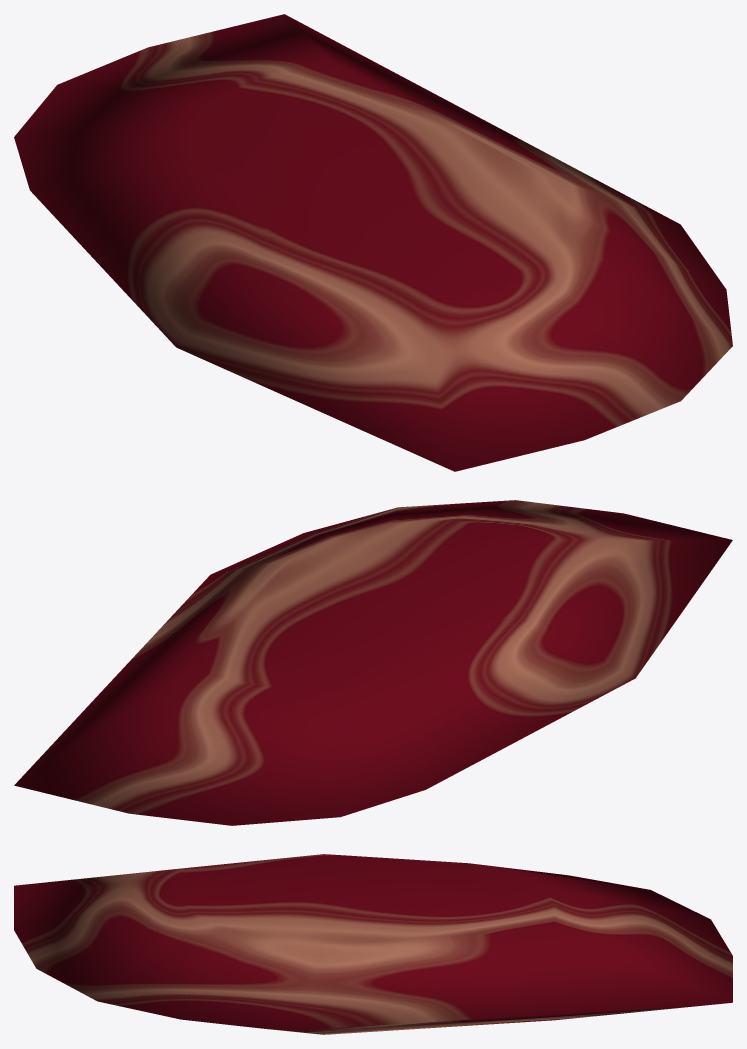
The model's file is bbq3.fbx.
3 renders of one model, top to bottom at view 1: azimuth 30°, elevation 25°; view 2: azimuth 150°, elevation 25°; view 3: azimuth 270°, elevation 25°, orthographic. The views are drawn at different scales.
Parts seen in each view (by area): view 1: BBQ 3; view 2: BBQ 3; view 3: BBQ 3.
Part boxes in pixels (x1=…): BBQ 3: x1=14, y1=14, x2=732, y2=471; BBQ 3: x1=14, y1=500, x2=732, y2=825; BBQ 3: x1=14, y1=854, x2=732, y2=1034.
Bounding box in the file's own units: 24.7 × 3.43 × 14.06.
1 material, 1 textured.
